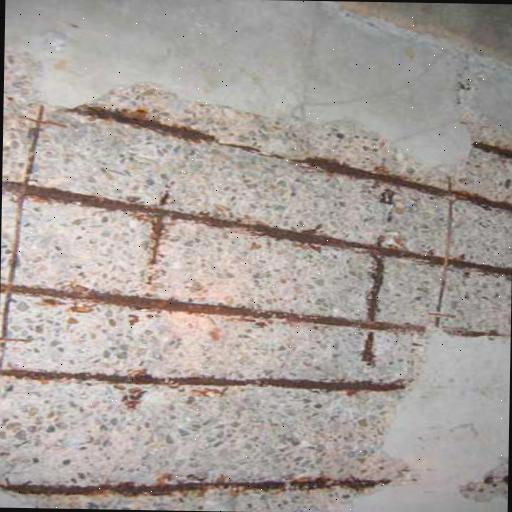spalling: (0, 50, 512, 510), (456, 458, 509, 505)
